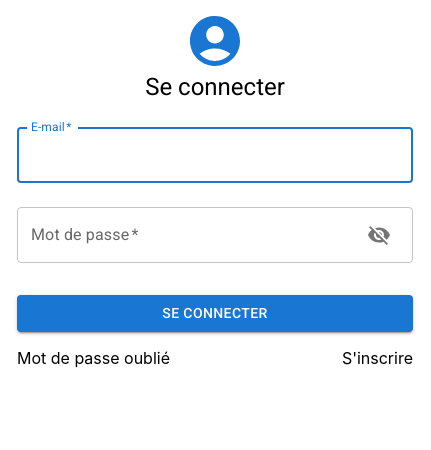
it: SignIn Component › displays error when email is invalid
Type "invalid-email" into the field labelled "E-mail *".
click(215, 155); type("invalid-email")  # box x1=17 y1=127 x2=413 y2=183
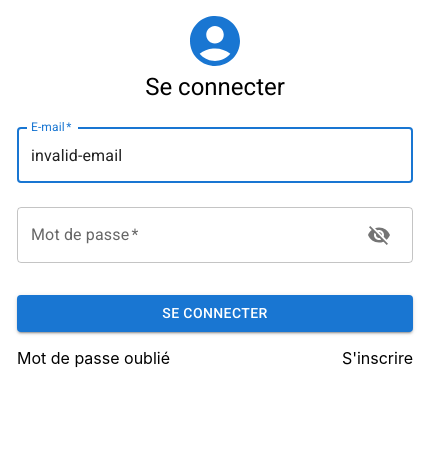
Click the button "Se connecter".
click(215, 313)  # box x1=17 y1=295 x2=413 y2=332
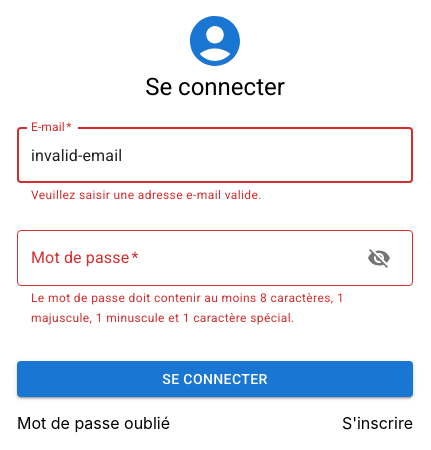
Expected: the text "Veuillez saisir une adresse e-mail valide." is shown, x1=31 y1=188 x2=262 y2=202
